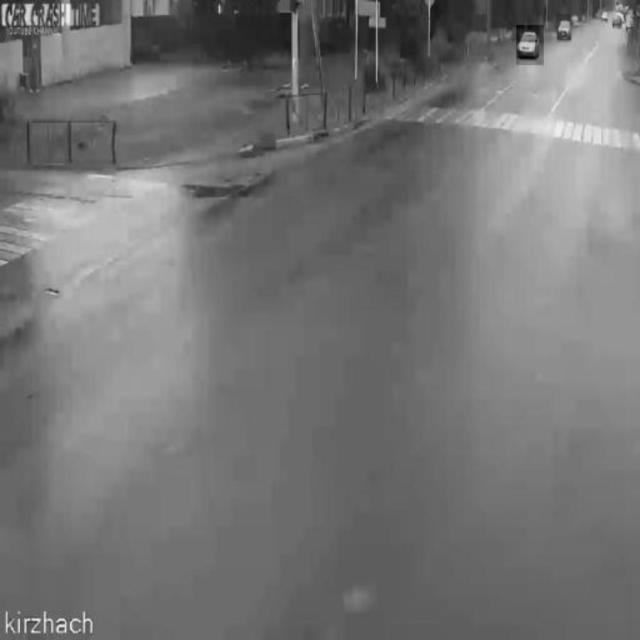vehicle: (517, 26, 544, 66), (557, 14, 572, 42)
